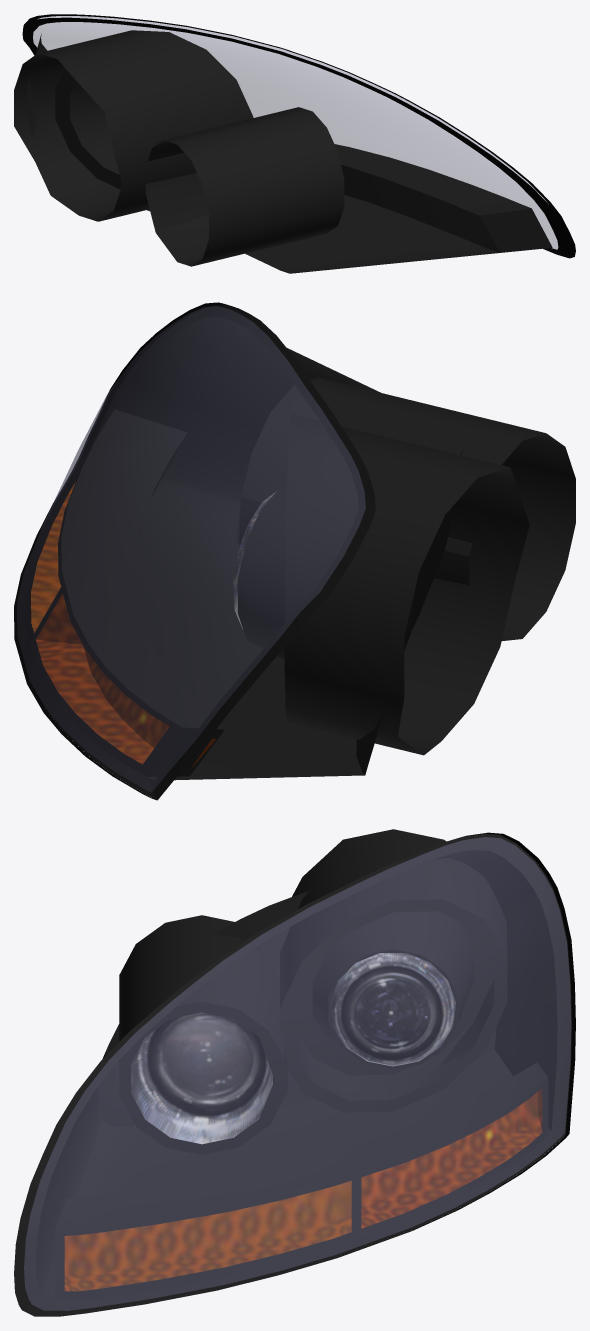
3 views of the same model, one above another, from view 1: azimuth 30°, elevation 25°; view 2: azimuth 150°, elevation 25°; view 3: azimuth 270°, elevation 25° (orthographic). The views are drawn at different scales.
Visible parts, largest first — view 1: X6164_18_061B_L_X6164_18_061B_L_7_DaS, X6164_18_061B_L_X6164_18_061B_L_6_DTaSI, X6164_18_061B_L_X6164_18_061B_L_4_D; view 2: X6164_18_061B_L_X6164_18_061B_L_7_DaS, X6164_18_061B_L_X6164_18_061B_L_6_DTaSI, X6164_18_061B_L_X6164_18_061B_L_2_N, X6164_18_061B_L_X6164_18_061B_L_4_D, X6164_18_061B_L_X6164_18_061B_L_3_N, X6164_18_061B_L_X6164_18_061B_L_5_N; view 3: X6164_18_061B_L_X6164_18_061B_L_6_DTaSI, X6164_18_061B_L_X6164_18_061B_L_7_DaS, X6164_18_061B_L_X6164_18_061B_L_3_N, X6164_18_061B_L_1_N_X6164_18_061B_L, X6164_18_061B_L_X6164_18_061B_L_5_N, X6164_18_061B_L_X6164_18_061B_L_2_N, X6164_18_061B_L_X6164_18_061B_L_4_D.
Boxes of the visible parts, x1=… form: X6164_18_061B_L_X6164_18_061B_L_7_DaS: x1=14, y1=30, x2=552, y2=273; X6164_18_061B_L_X6164_18_061B_L_6_DTaSI: x1=33, y1=16, x2=557, y2=249; X6164_18_061B_L_X6164_18_061B_L_4_D: x1=22, y1=14, x2=575, y2=258; X6164_18_061B_L_X6164_18_061B_L_7_DaS: x1=20, y1=304, x2=575, y2=800; X6164_18_061B_L_X6164_18_061B_L_6_DTaSI: x1=17, y1=306, x2=365, y2=792; X6164_18_061B_L_X6164_18_061B_L_2_N: x1=36, y1=593, x2=215, y2=769; X6164_18_061B_L_X6164_18_061B_L_4_D: x1=14, y1=302, x2=235, y2=799; X6164_18_061B_L_X6164_18_061B_L_3_N: x1=31, y1=482, x2=75, y2=632; X6164_18_061B_L_X6164_18_061B_L_5_N: x1=233, y1=491, x2=276, y2=628; X6164_18_061B_L_X6164_18_061B_L_6_DTaSI: x1=24, y1=837, x2=570, y2=1310; X6164_18_061B_L_X6164_18_061B_L_7_DaS: x1=14, y1=829, x2=571, y2=1316; X6164_18_061B_L_X6164_18_061B_L_3_N: x1=64, y1=1181, x2=351, y2=1291; X6164_18_061B_L_1_N_X6164_18_061B_L: x1=131, y1=1012, x2=272, y2=1144; X6164_18_061B_L_X6164_18_061B_L_5_N: x1=330, y1=953, x2=455, y2=1066; X6164_18_061B_L_X6164_18_061B_L_2_N: x1=361, y1=1088, x2=542, y2=1228; X6164_18_061B_L_X6164_18_061B_L_4_D: x1=335, y1=832, x2=575, y2=1258.
Size of the model in its own units: 42.29 by 22.39 by 41.68.
